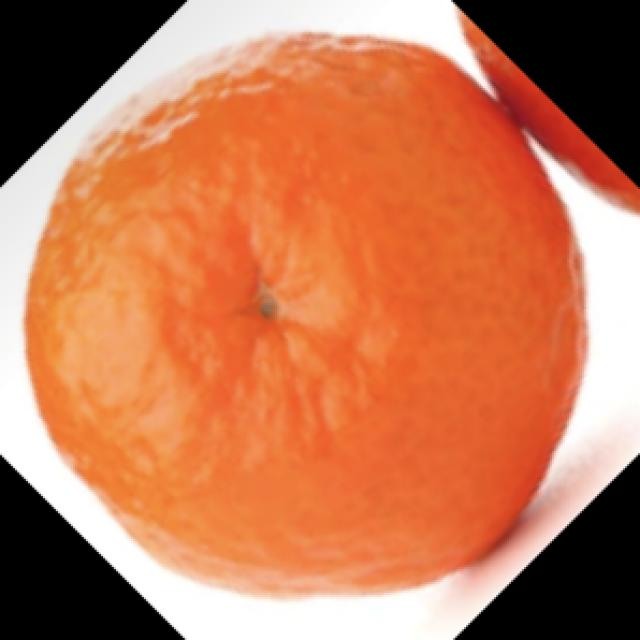fresh: (16, 25, 608, 606)
